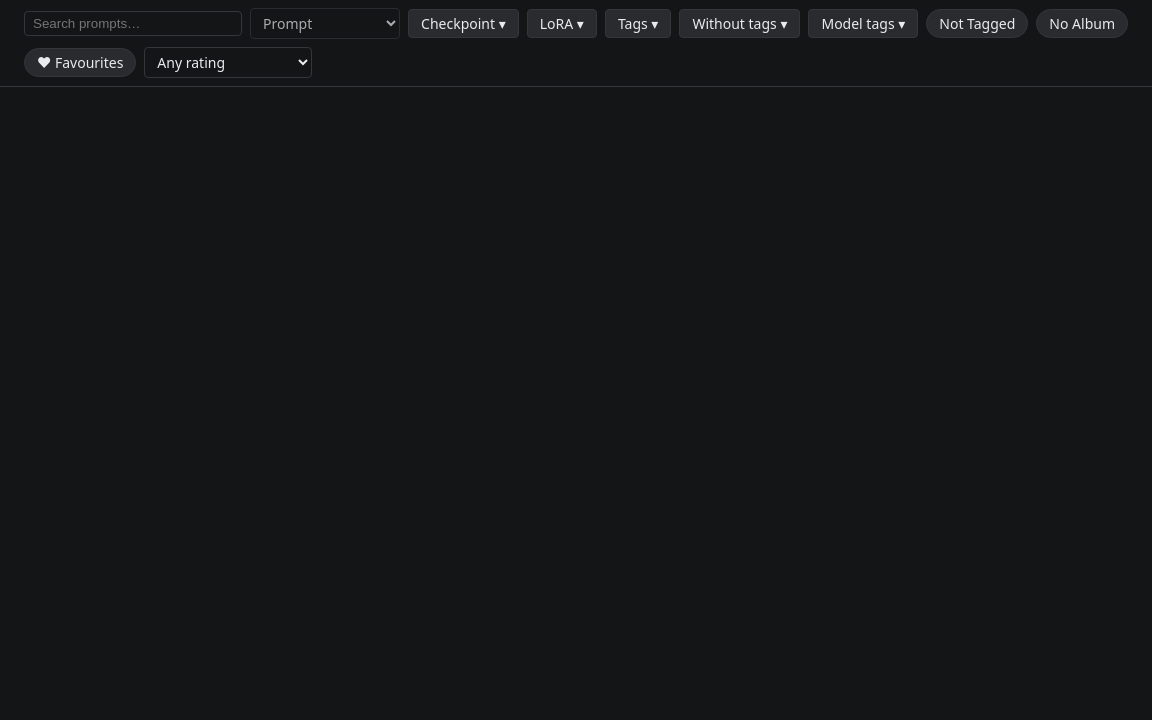
Test: FilterBar › model tags › explains an empty vocabulary
Click the button "Model tags ▾".
click(863, 24)  # box [808, 9, 918, 38]
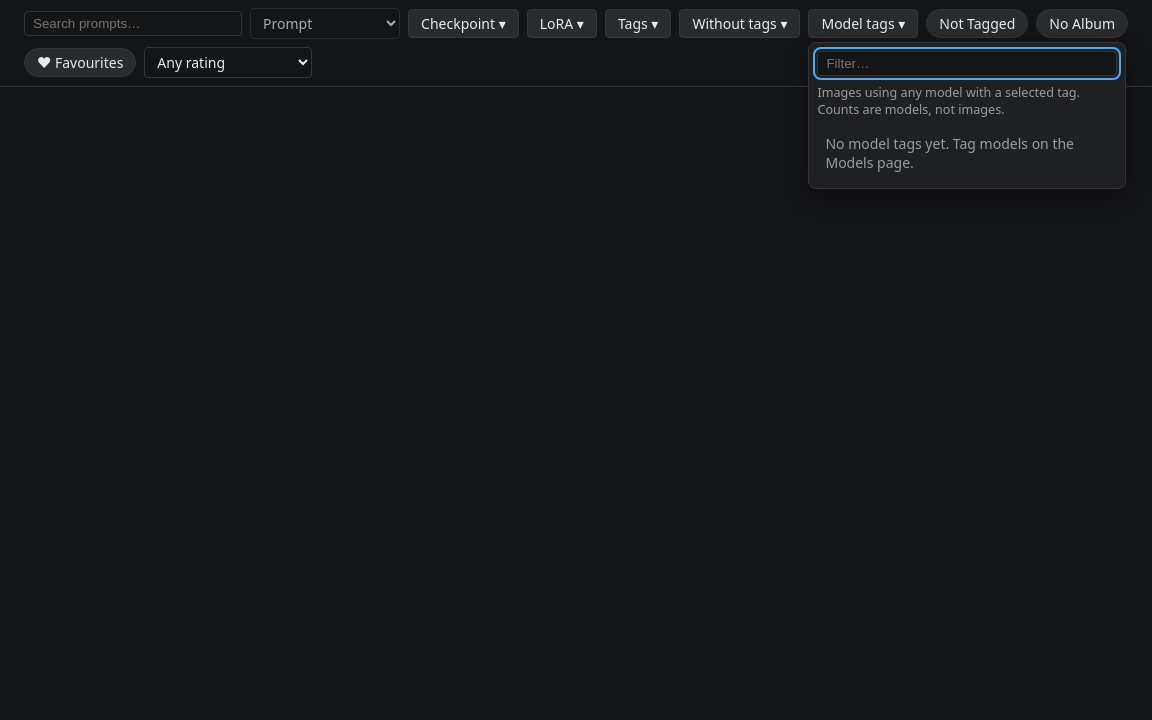
Check: the dialog named "Model tags" shows "No model tags yet. Tag models on the Models page.", box [825, 134, 1074, 172]
